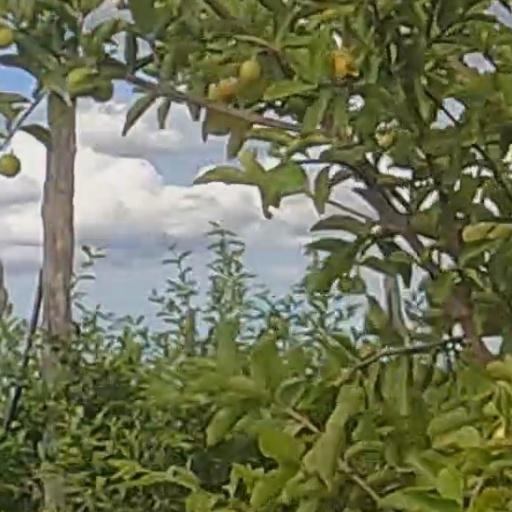acerola: (2, 155, 21, 176)
